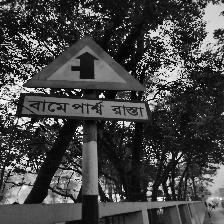Side-road-left: (20, 36, 151, 121)
